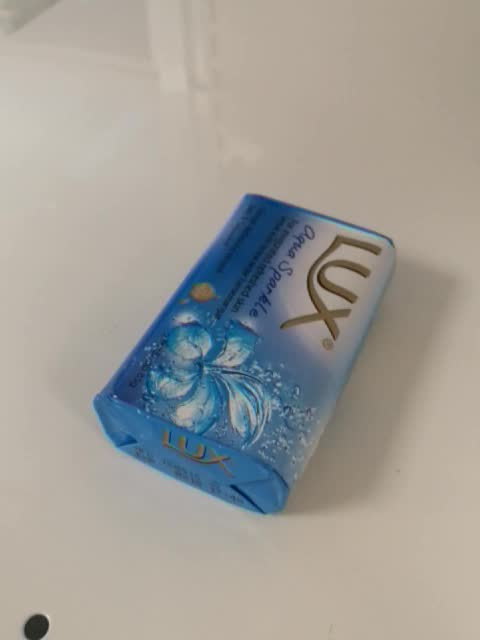soap: (90, 188, 399, 518)
